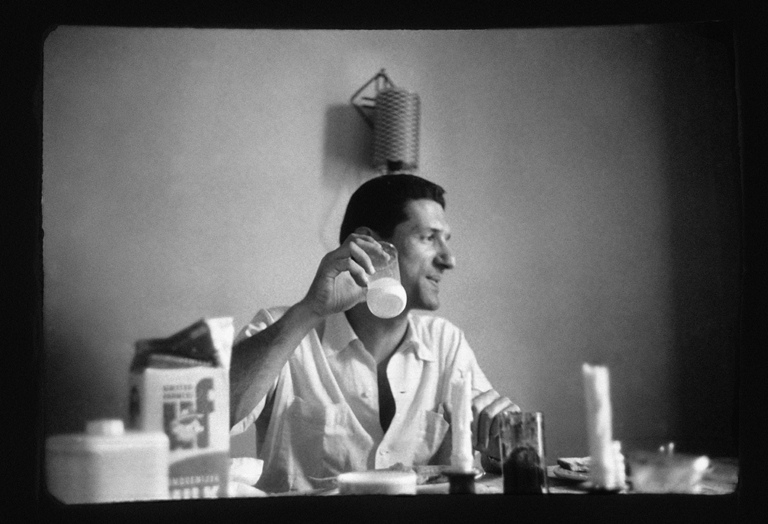glass of milk: (362, 256, 412, 323)
